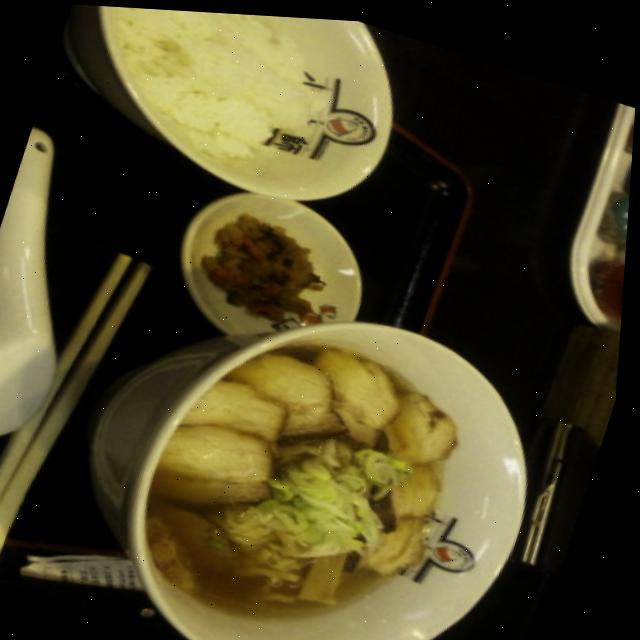米饭主食: (57, 3, 430, 223)
面条主食: (42, 239, 587, 640)
